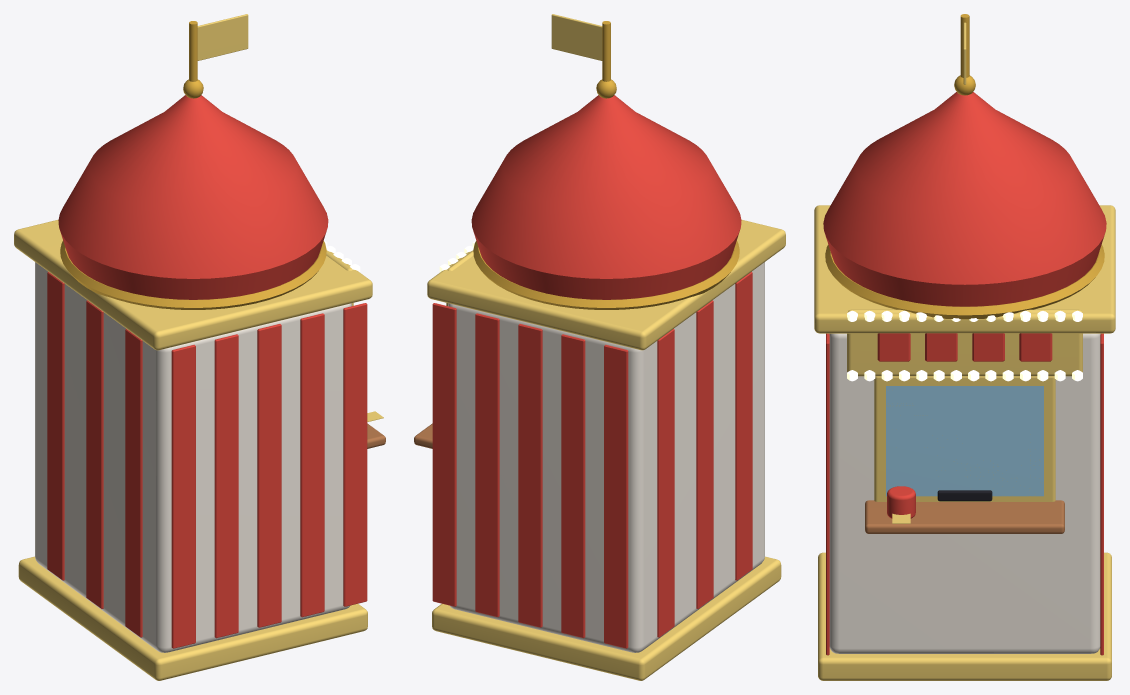
File: ticket_booth.glb
3 renders of one model, left to right at view 1: azimuth 30°, elevation 25°; view 2: azimuth 150°, elevation 25°; view 3: azimuth 270°, elevation 25°, orthographic. The views are drawn at different scales.
Visible parts, largest first — view 1: ticket_booth; view 2: ticket_booth; view 3: ticket_booth.
Part boxes in pixels (bbox=[...]): ticket_booth: bbox=[14, 14, 385, 680]; ticket_booth: bbox=[414, 14, 785, 680]; ticket_booth: bbox=[814, 14, 1115, 680].
Bounding box in the file's own units: 1.82 × 3.72 × 1.66.
Materials: 1 (1 with a texture image).
